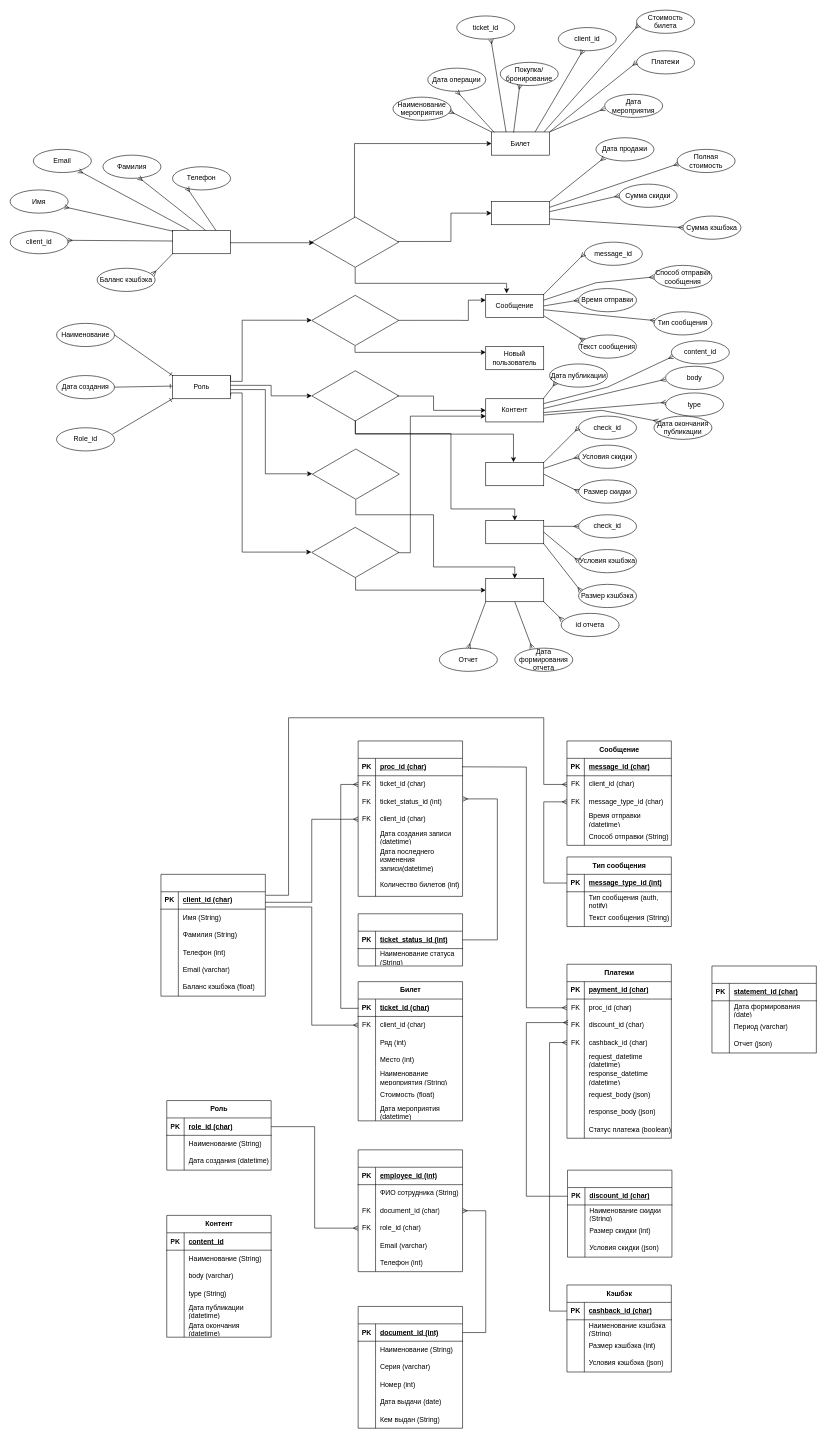
The diagram is 827 pixels wide and 1438 high, and some of its shapes have lost their labels. The box of each missing label's shape, as (x1, y1, x2, y2) in pixels:
Актуализирует контент: (311, 369, 399, 422)
Бронирует и/или покупает билет: (311, 215, 399, 268)
Документы сотрудников: (358, 1306, 463, 1428)
Клиент: (172, 230, 231, 254)
Клинет: (160, 874, 265, 996)
Контролирует работу театра: (311, 526, 399, 579)
Отчет о продажах: (485, 578, 544, 602)
Отчеты: (711, 965, 816, 1053)
Программа кэшбэка: (485, 520, 544, 544)
Программа скидок: (485, 462, 544, 486)
Продажа: (491, 201, 550, 225)
Процесс покупки/бронирования: (358, 740, 463, 896)
Регистрирует новых пеользователей: (311, 294, 399, 347)
Скидка: (567, 1170, 672, 1257)
Сотрудники театра: (358, 1149, 463, 1272)
Статус билета: (358, 913, 463, 966)
Формирует отчеты о продажах: (312, 447, 399, 500)
